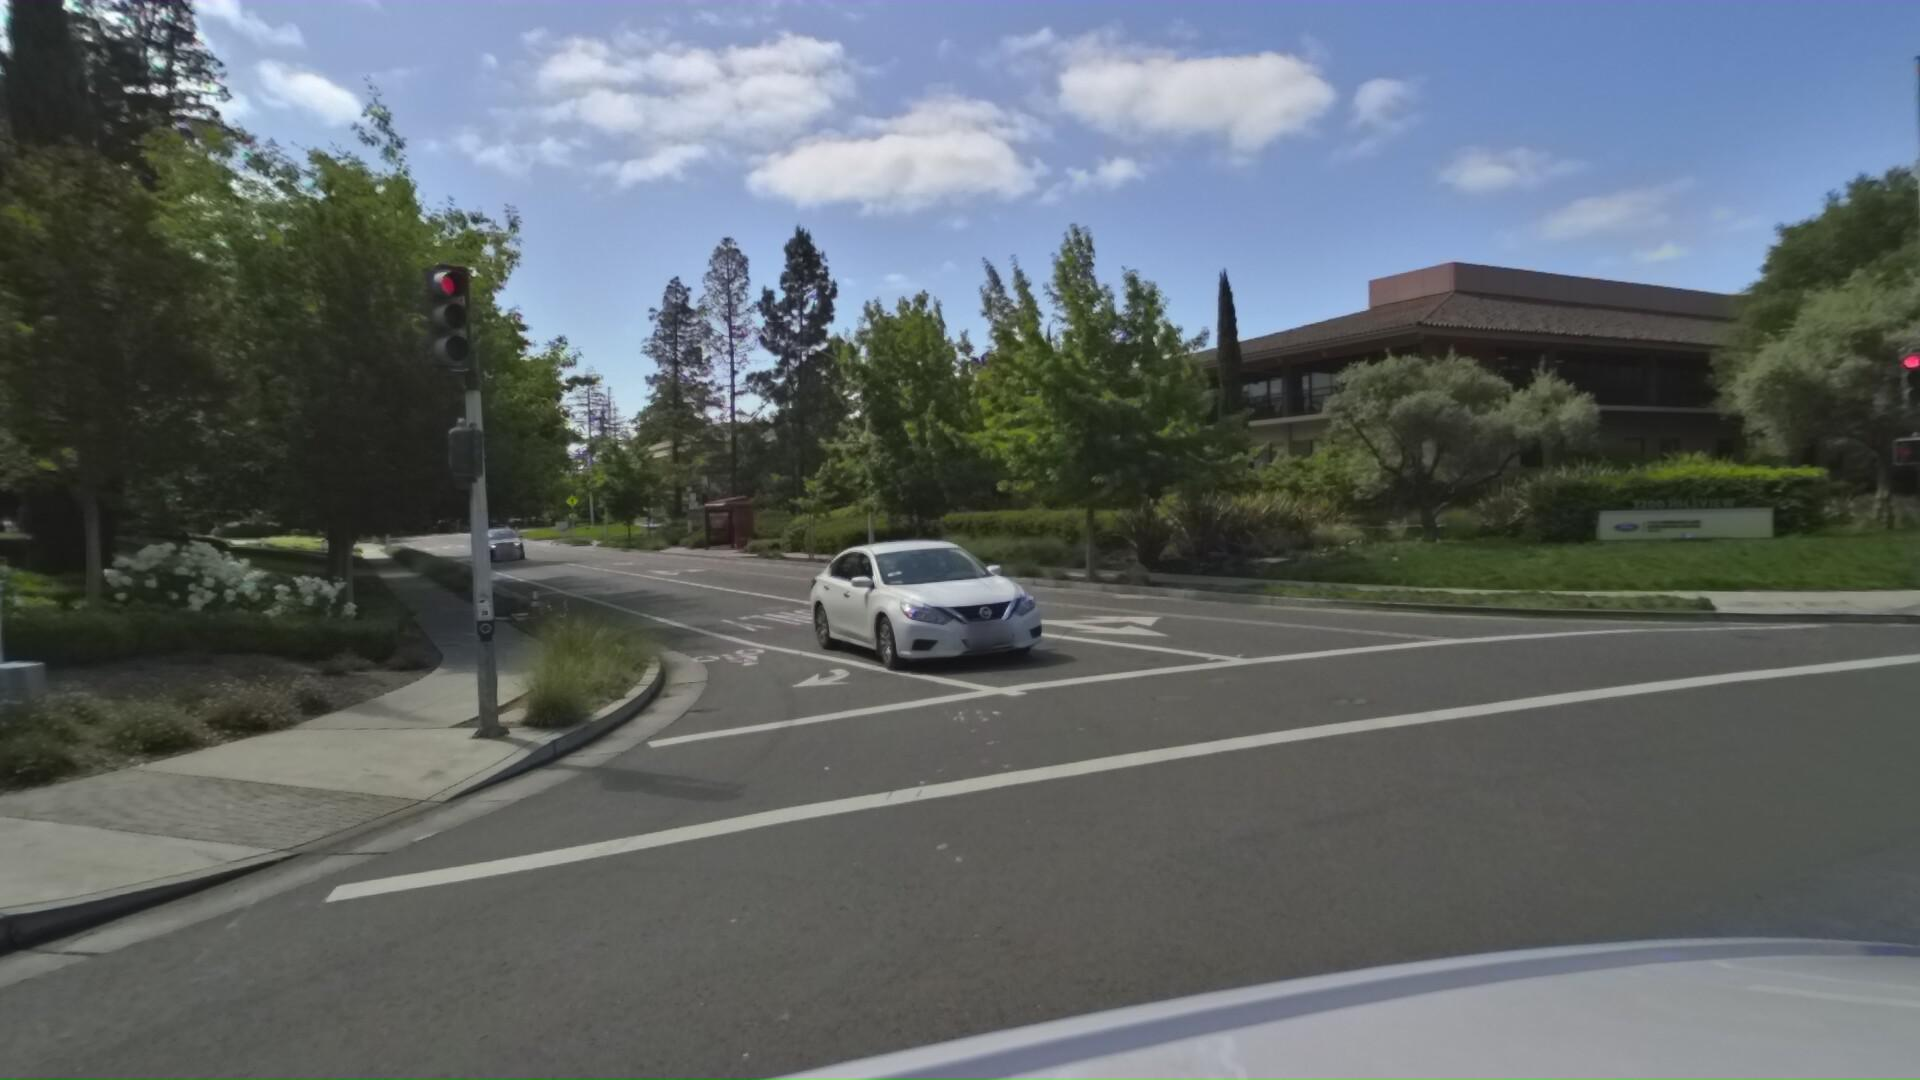car: (814, 516, 1073, 676), (477, 522, 535, 560)
